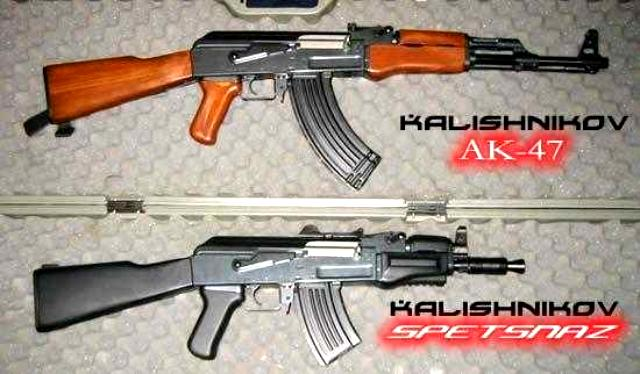rifle: (32, 9, 626, 182), (16, 217, 538, 357)
